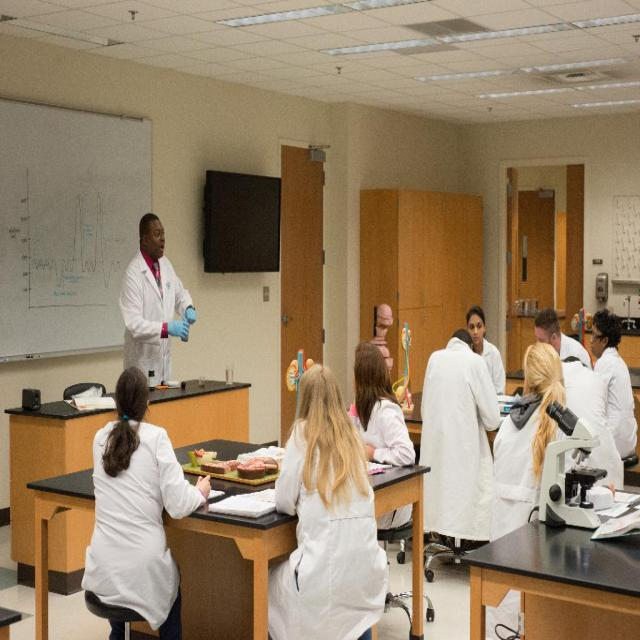desk: (28, 439, 428, 639)
person: (85, 364, 211, 634), (269, 362, 389, 635), (486, 341, 572, 623), (419, 324, 502, 554), (526, 306, 624, 486), (119, 210, 198, 378), (590, 308, 638, 468), (466, 305, 506, 398)
tv: (202, 168, 282, 274)
